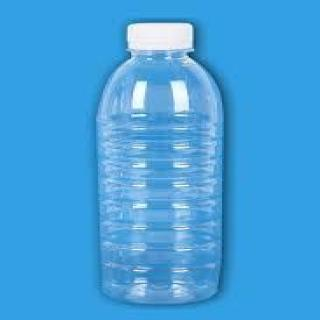Plastic-bottle: (92, 20, 230, 308)
